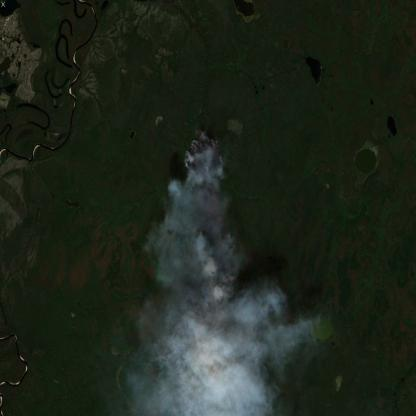fire: (183, 126, 240, 302)
